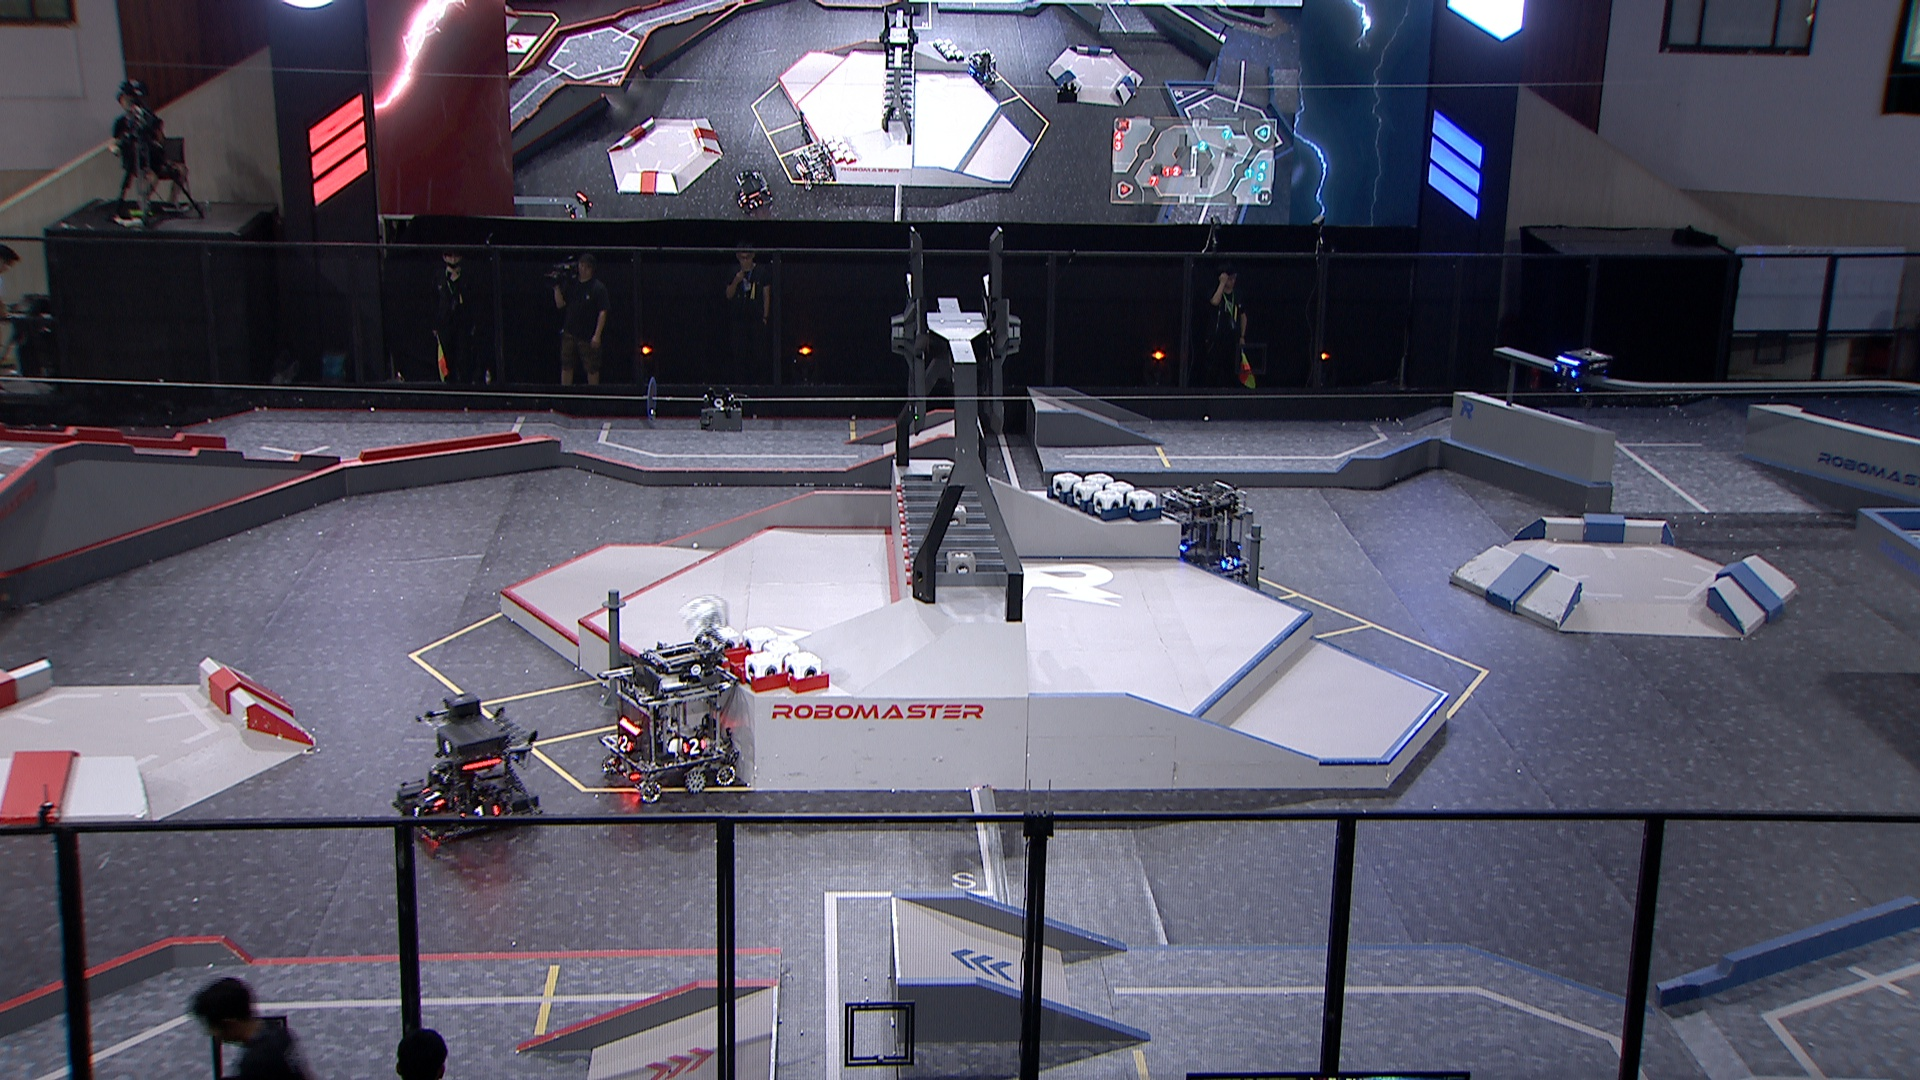armor: (456, 802, 501, 822), (1549, 363, 1581, 381), (419, 787, 447, 807), (680, 736, 707, 756), (615, 733, 636, 756), (406, 806, 430, 822), (1218, 555, 1240, 572)
car: (389, 692, 546, 855), (595, 633, 741, 804), (1153, 475, 1266, 597)
ignore: (793, 140, 835, 187), (732, 169, 775, 214), (964, 47, 1001, 91), (560, 193, 595, 223)
watcher: (1545, 345, 1609, 406)
